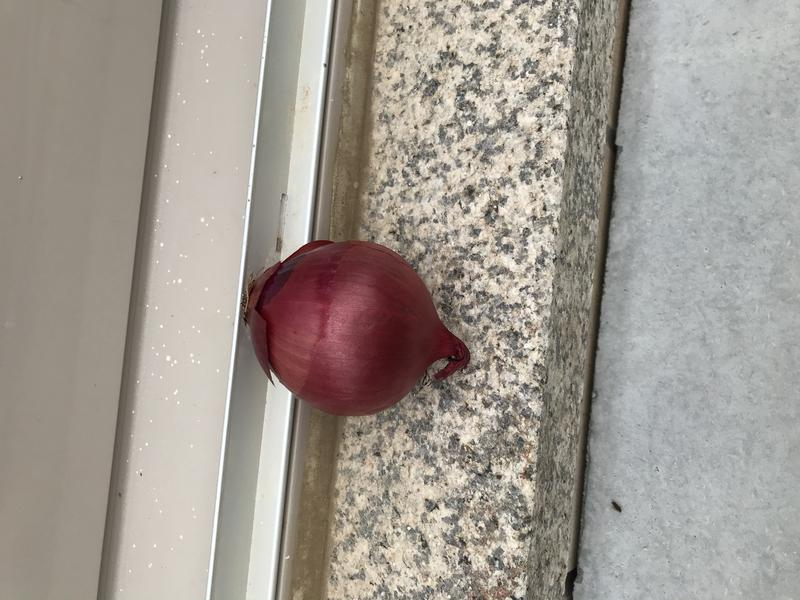purple_onion: (234, 233, 479, 422)
